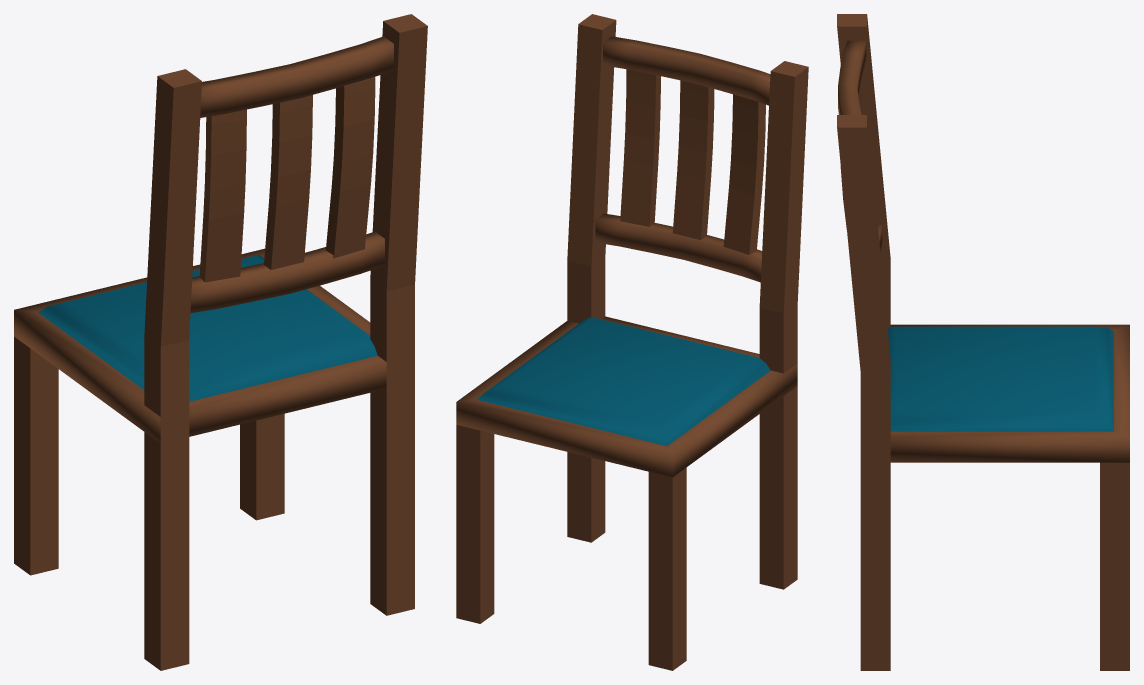
The model's file is Chair_Wood_02.glb.
The picture shows the model from 3 angles, left to right: view 1: azimuth 30°, elevation 25°; view 2: azimuth 150°, elevation 25°; view 3: azimuth 270°, elevation 25°; orthographic projection. The views are drawn at different scales.
Visible parts, largest first — view 1: Mesh_Chair_Wood_02; view 2: Mesh_Chair_Wood_02; view 3: Mesh_Chair_Wood_02.
Boxes of the visible parts, <box> form: Mesh_Chair_Wood_02: <box>14,14,427,670</box>; Mesh_Chair_Wood_02: <box>456,14,808,670</box>; Mesh_Chair_Wood_02: <box>837,14,1129,670</box>.
Bounding box in the file's own units: 0.3737 × 0.8324 × 0.4067.
1 material, 1 textured.
